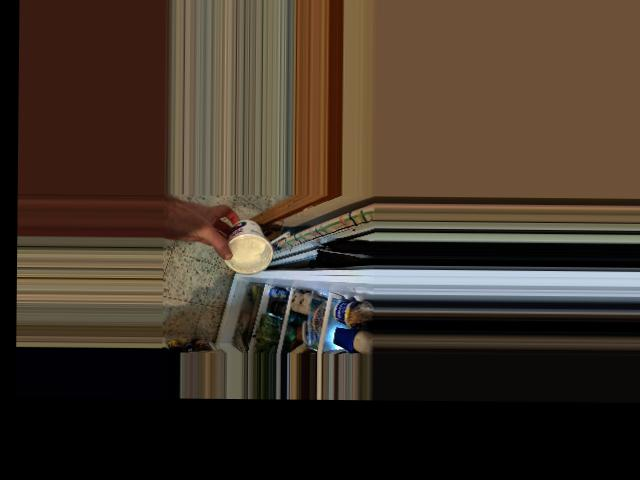cotage: (226, 219, 273, 271)
